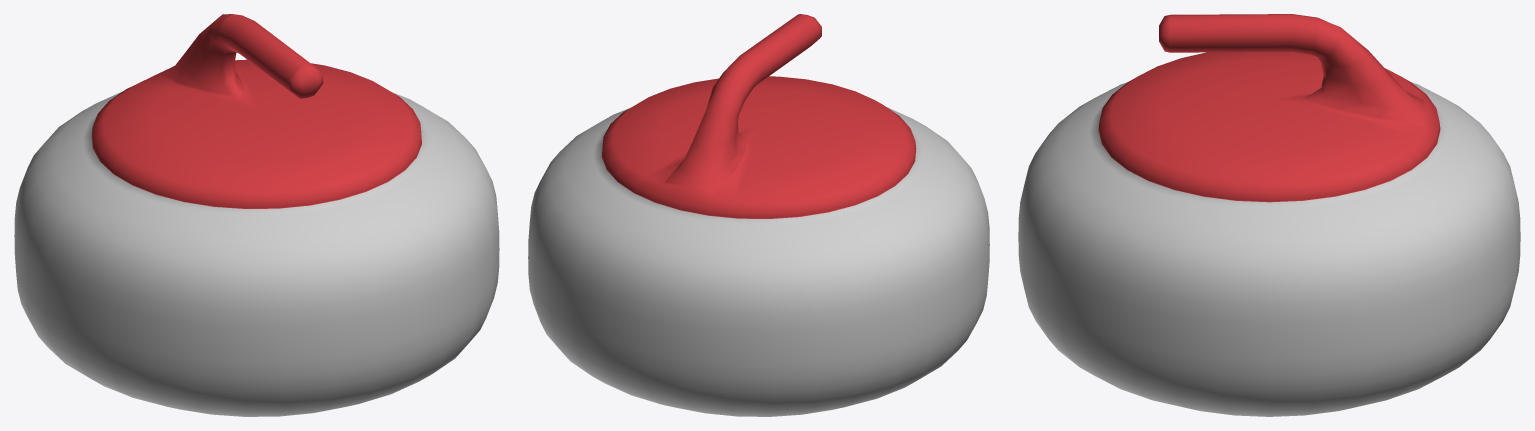
File: Curlingstein.fbx
3 views of the same model, side by side, from view 1: azimuth 30°, elevation 25°; view 2: azimuth 150°, elevation 25°; view 3: azimuth 270°, elevation 25° (orthographic). The views are drawn at different scales.
Parts seen in each view (by area): view 1: Circle; view 2: Circle; view 3: Circle.
Boxes of the visible parts, x1,y1,x2,y2 form: Circle: (14, 14, 499, 416); Circle: (528, 14, 989, 416); Circle: (1018, 14, 1520, 416).
Size of the model in its own units: 8.2 by 6.33 by 8.2.
